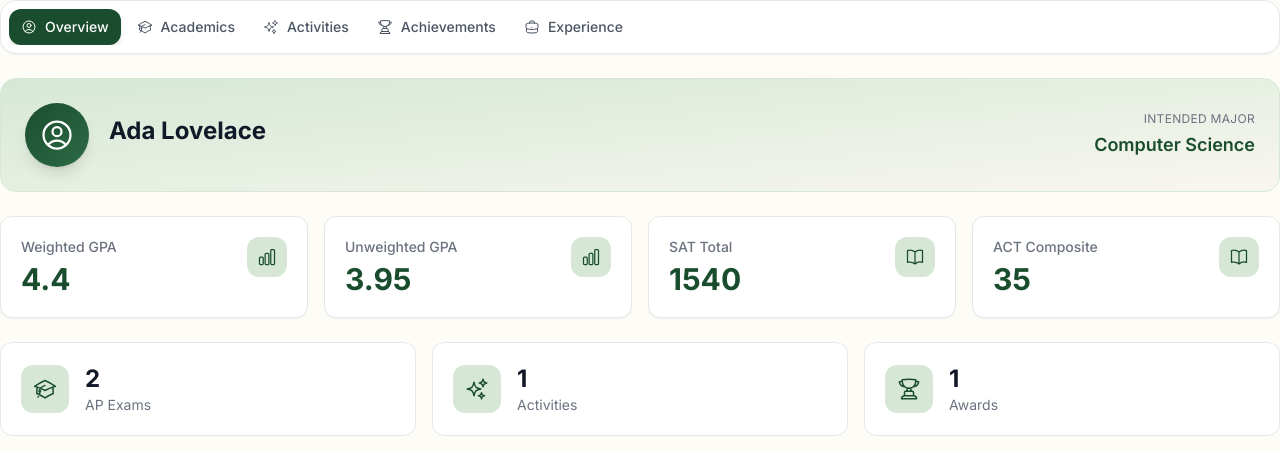
it: ProfileViewCard — defensive rendering › renders well-formed data across all tabs
The width and height of the screenshot is (1280, 453).
Expected: the text "2" is shown, top-left (85, 364), bottom-right (100, 393)
Click the button "Academics".
click(186, 27)  # box top-left (124, 9), bottom-right (247, 45)
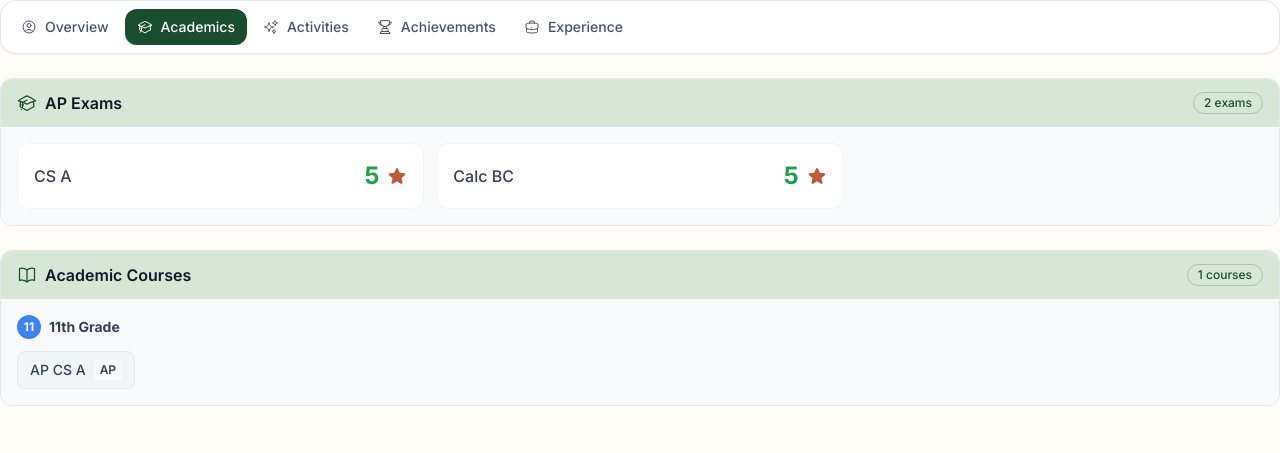
Now the text "AP CS A" is shown, box top-left (30, 360), bottom-right (86, 380)
// Activities (+ mixed leadership renders without crashing)
Click the button "Activities".
click(306, 27)  # box top-left (251, 9), bottom-right (361, 45)
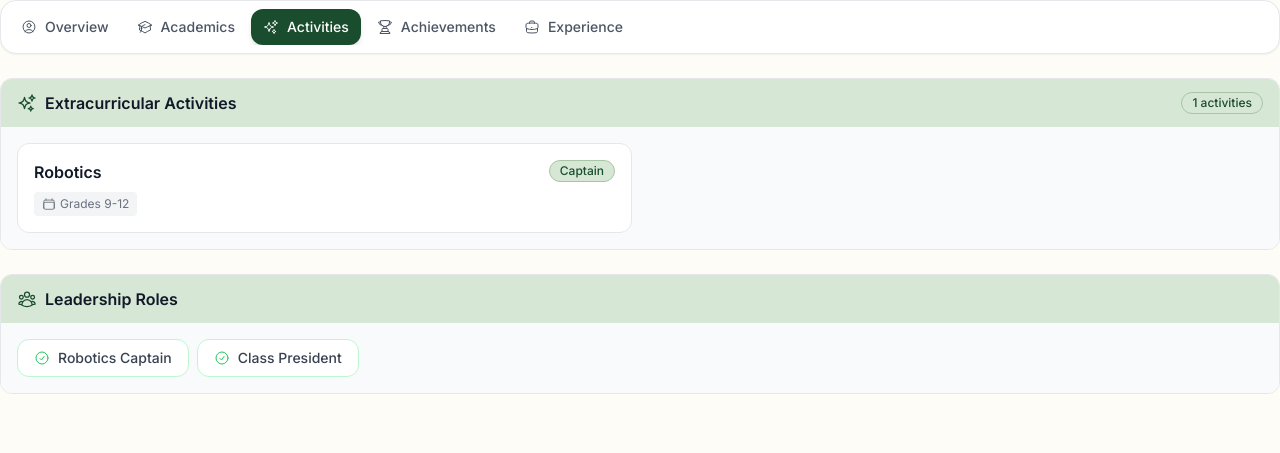
Now the heading "Robotics" is shown, box top-left (34, 160), bottom-right (102, 184)
Now the text "Robotics Captain" next to "Class President" is shown, box top-left (58, 349), bottom-right (172, 366)
Now the text "Class President" is shown, box top-left (197, 339), bottom-right (359, 377)
Click the button "Achievements".
click(436, 27)  # box top-left (365, 9), bottom-right (508, 45)
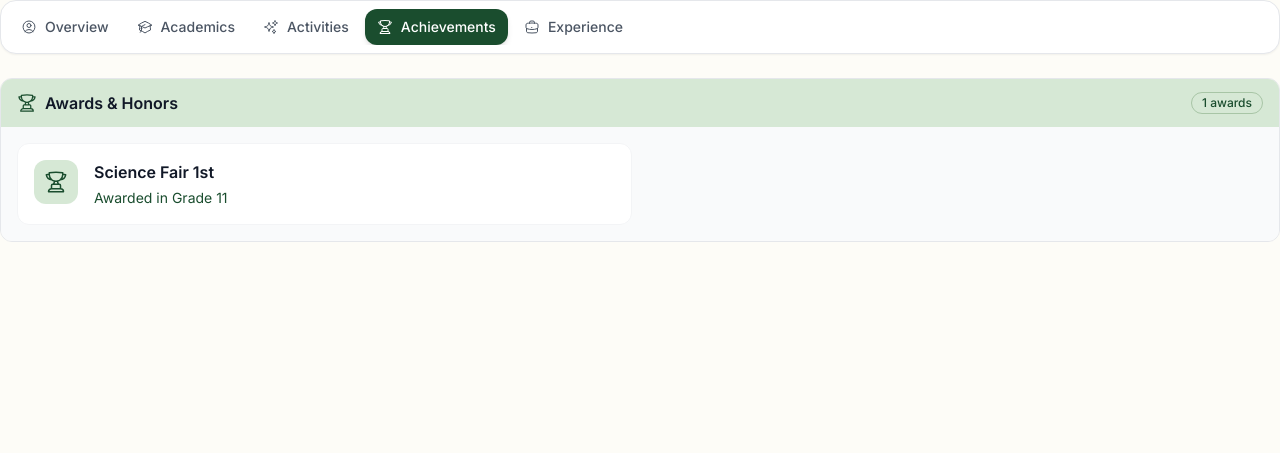
Now the text "Science Fair 1st" is shown, box top-left (94, 160), bottom-right (228, 184)
